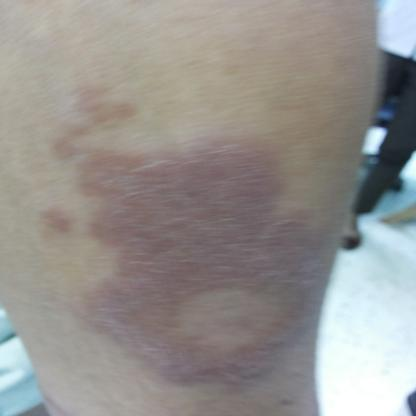Leprosy: (37, 72, 341, 395)
